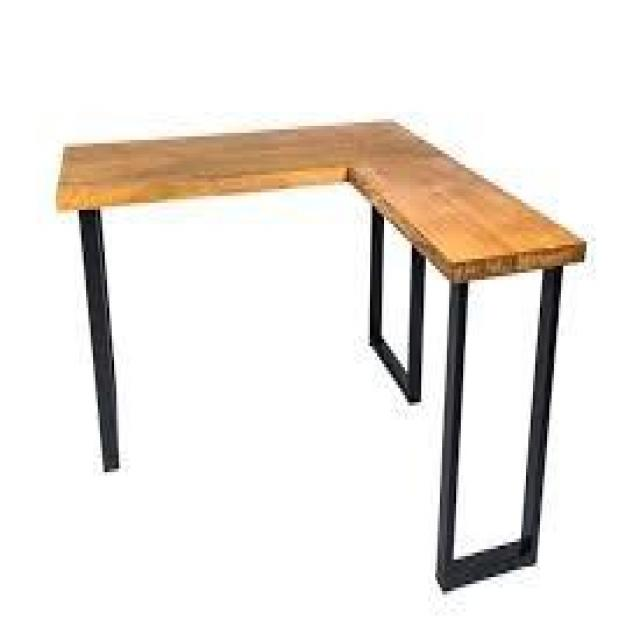table: (41, 52, 574, 616)
